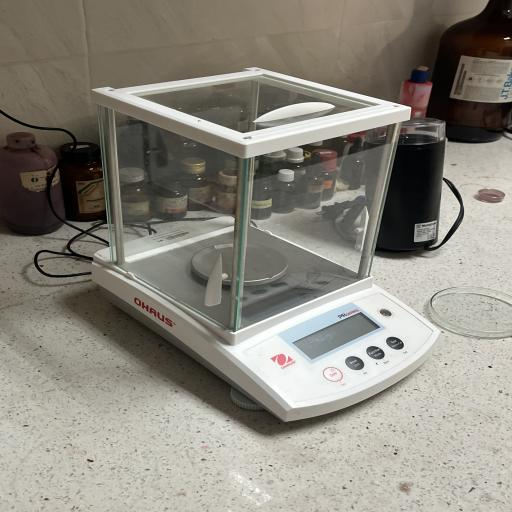Balanza_Analitica_Ohaus: (69, 60, 448, 437)
